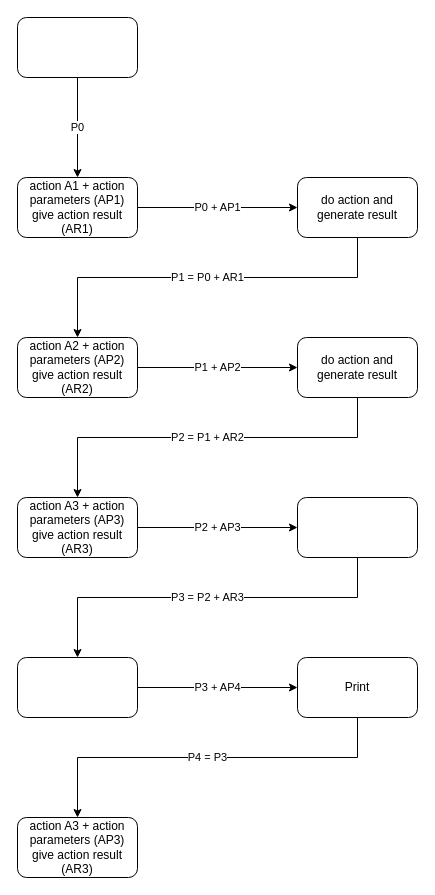
The diagram is 435 pixels wide and 895 high, and some of its shapes have lost their labels. The centre of each missing label's shape, as x and y in pixels:
action A4 + action parameters (AP4) gives no result: (77,687)
Signal: (357,527)
Transition triggered by Event + parameters (P0): (77,47)
